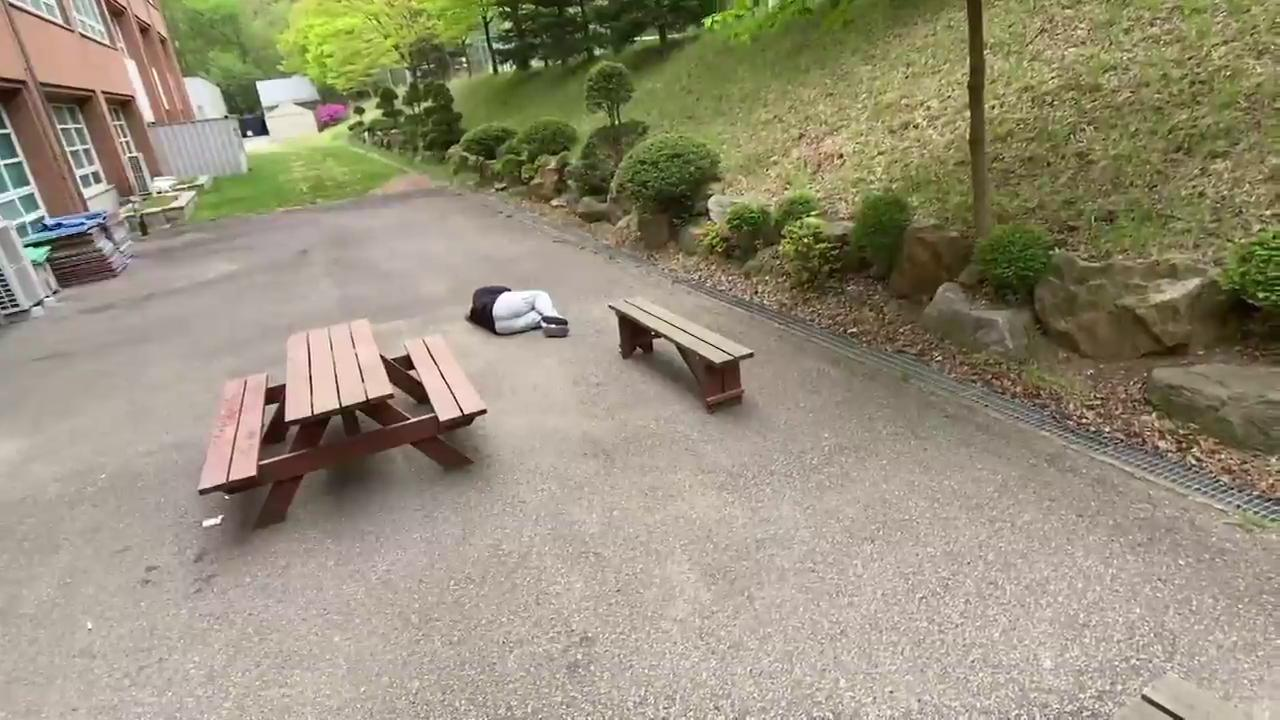faint: (467, 285, 572, 340)
